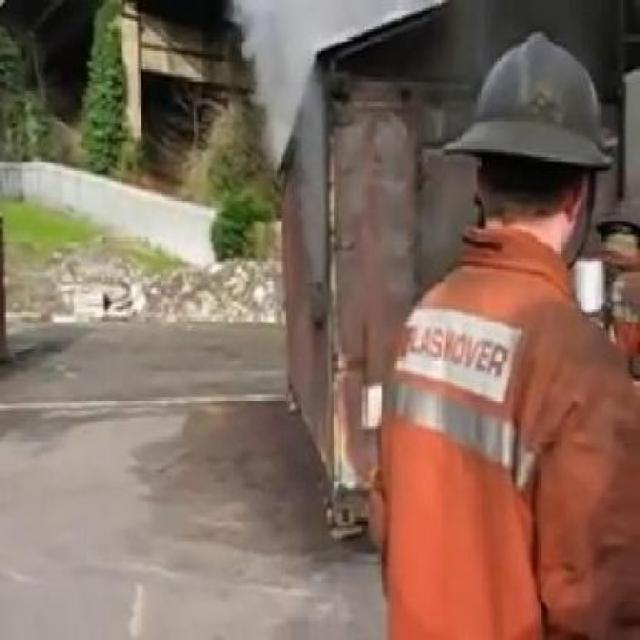smoke: (246, 3, 308, 102)
